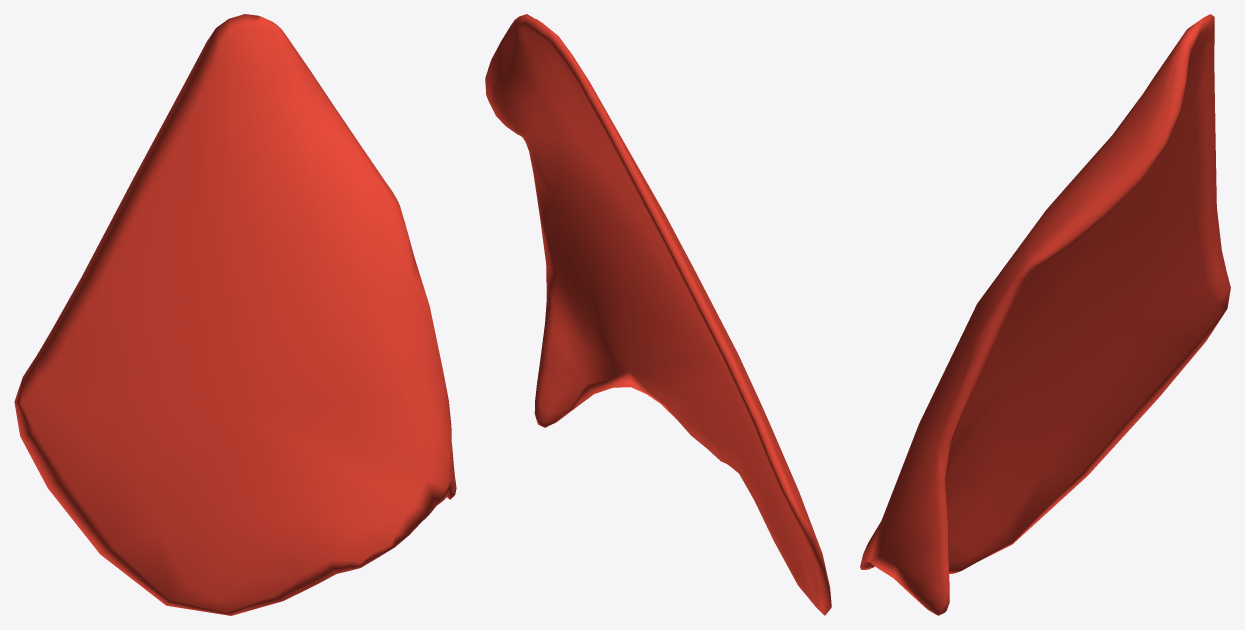
The model's file is Medial_pterygoid_muscle_in_the_pterygoid_fossa.r_Generated_Mesh.glb.
3 renders of one model, left to right at view 1: azimuth 30°, elevation 25°; view 2: azimuth 150°, elevation 25°; view 3: azimuth 270°, elevation 25°, orthographic. The views are drawn at different scales.
Visible parts, largest first — view 1: Medial_pterygoid_muscle_in_the_pterygoid_fossa.r_Generated_M; view 2: Medial_pterygoid_muscle_in_the_pterygoid_fossa.r_Generated_M; view 3: Medial_pterygoid_muscle_in_the_pterygoid_fossa.r_Generated_M.
Part boxes in pixels (x1,y1,x2,y2): Medial_pterygoid_muscle_in_the_pterygoid_fossa.r_Generated_M: (14, 14, 456, 615); Medial_pterygoid_muscle_in_the_pterygoid_fossa.r_Generated_M: (485, 14, 831, 615); Medial_pterygoid_muscle_in_the_pterygoid_fossa.r_Generated_M: (860, 14, 1230, 615).
Bounding box in the file's own units: 0.0138 × 0.0201 × 0.0108.
